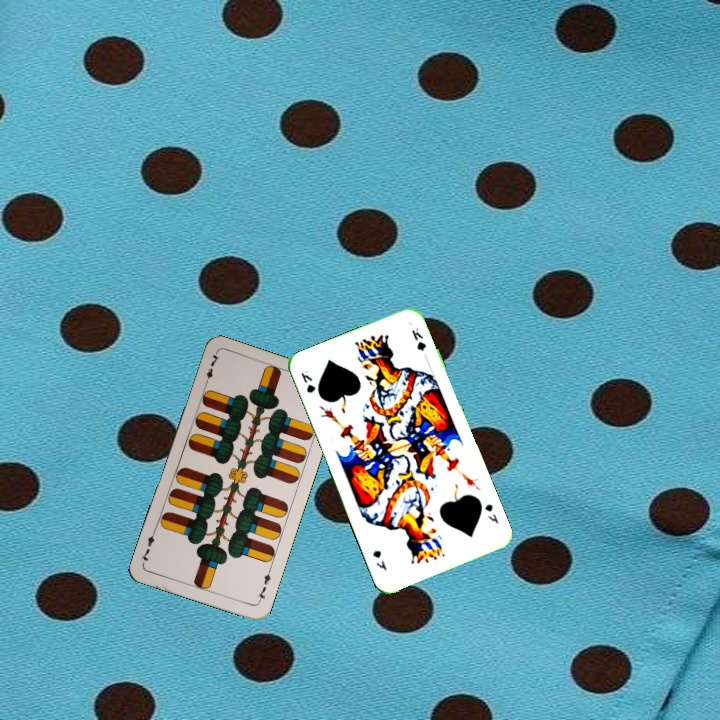E7: (200, 349, 222, 389), (254, 566, 274, 605)
GK: (297, 366, 318, 396), (481, 500, 501, 526)
